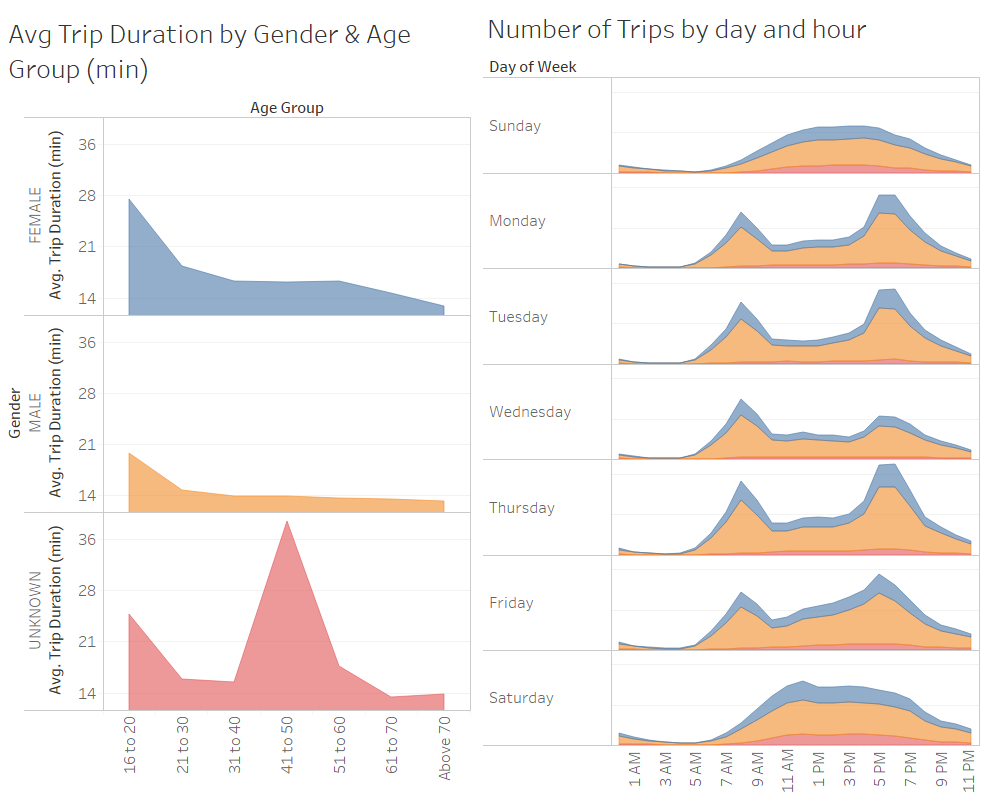

Layout of this report page (visuals, bound fields, positions):
{"tool":"tableau","page":{"name":"Dashboard 2","canvas":[1000,800],"ordinal":1},"visuals":[{"type":"worksheet","title":"Number of Trips by day and hour","mark":"Area","rows":["Calculation_1401745390217584648","modified-201908-citibike-tripdata.csv_210B2038E55449FCA8B386"],"cols":["starttime"],"box":[487,7,497,789]},{"type":"worksheet","title":"Avg Trip Duration by Gender & Age Group (min)","mark":"Area","rows":["Calculation_1401745389979369473","Calculation_1401745390183747589"],"box":[8,12,467,779]}]}

Visuals, with their boxes in screenshot pixels (x1, y1, x2, y2), scaled from the page's 1000x800 canvas onto the 995x797 screenshot:
"Number of Trips by day and hour" worksheet (Area marks): bbox=(485, 7, 979, 793)
"Avg Trip Duration by Gender & Age Group (min)" worksheet (Area marks): bbox=(8, 12, 473, 788)
